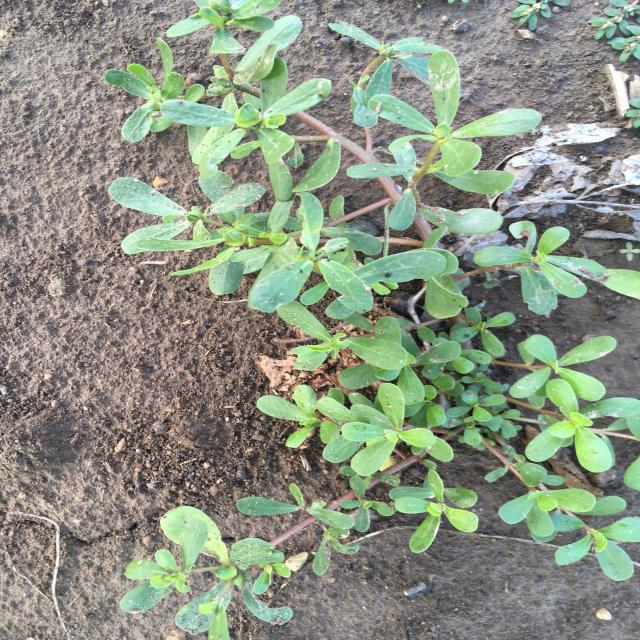Purslane: (102, 0, 640, 639)
SpottedSpurge: (588, 0, 640, 62), (509, 1, 570, 30)
